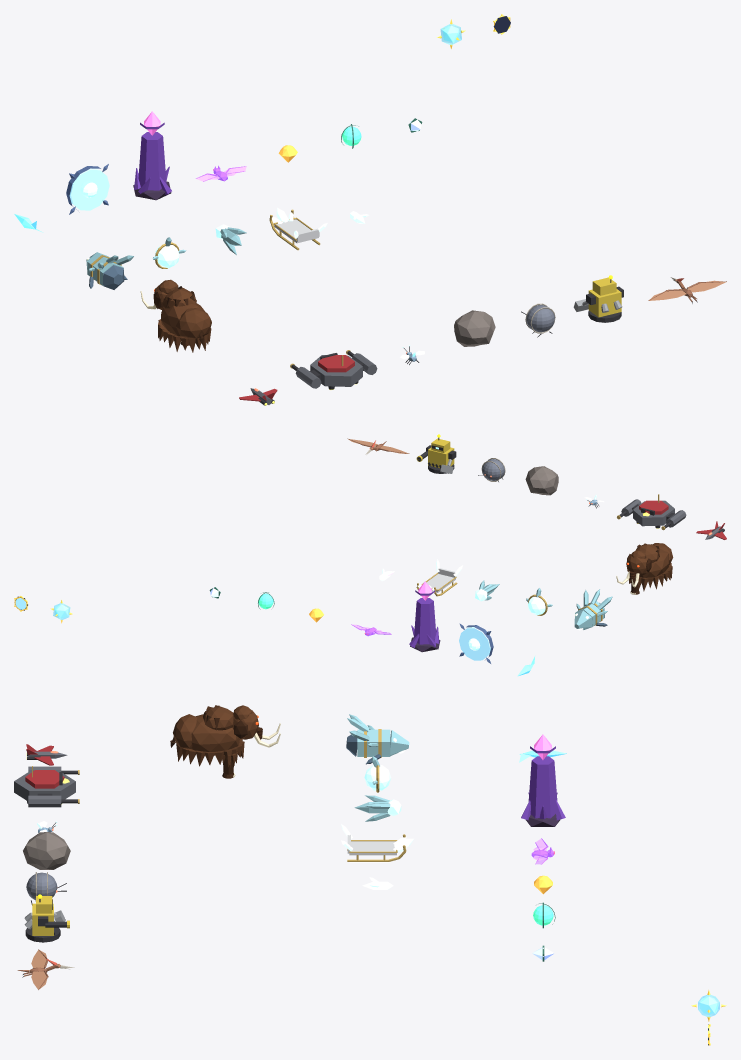
The model's file is enemies.glb.
3 renders of one model, top to bottom at view 1: azimuth 30°, elevation 25°; view 2: azimuth 150°, elevation 25°; view 3: azimuth 270°, elevation 25°, orthographic. The views are drawn at different scales.
Parts seen in each view (by area): view 1: SpireShaft, LensDisc, GE_Top, MammothRump, EG_Hull; view 2: SpireShaft, LensDisc, GE_Top, EG_Hull; view 3: SpireShaft, MammothTorso, GE_Top, EG_Hull, PH_Body, SL_Deck, MammothRump, EG_Deck, MammothHump.
Part boxes in pixels (bbox=[...]): SpireShaft: bbox=[138, 132, 166, 190]; LensDisc: bbox=[69, 168, 109, 210]; GE_Top: bbox=[454, 310, 495, 338]; MammothRump: bbox=[175, 307, 211, 338]; EG_Hull: bbox=[310, 355, 362, 386]; SpireShaft: bbox=[414, 598, 436, 644]; LensDisc: bbox=[459, 627, 490, 660]; GE_Top: bbox=[525, 466, 558, 488]; EG_Hull: bbox=[633, 500, 674, 526]; SpireShaft: bbox=[528, 756, 557, 818]; MammothTorso: bbox=[191, 714, 239, 755]; GE_Top: bbox=[23, 832, 70, 859]; EG_Hull: bbox=[14, 771, 75, 801]; PH_Body: bbox=[357, 729, 390, 756]; SL_Deck: bbox=[349, 841, 396, 855]; MammothRump: bbox=[173, 714, 197, 748]; EG_Deck: bbox=[25, 770, 64, 788]; MammothHump: bbox=[203, 706, 233, 730].
Size of the model in its own units: 68.92 by 10.79 by 68.92.
